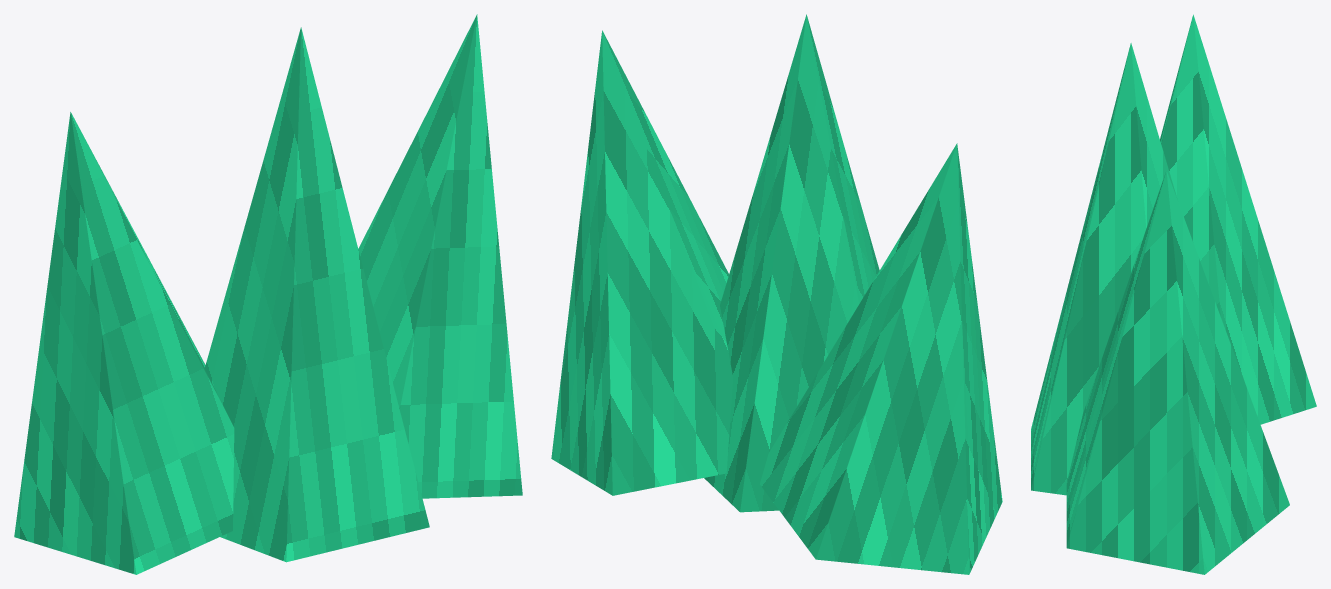
Rendered from crystal_10.glb.
The picture shows the model from 3 angles, left to right: view 1: azimuth 30°, elevation 25°; view 2: azimuth 150°, elevation 25°; view 3: azimuth 270°, elevation 25°; orthographic projection. The views are drawn at different scales.
Visible parts, largest first — view 1: Jade.001, Jade, Jade.002; view 2: Jade, Jade.002, Jade.001; view 3: Jade.002, Jade, Jade.001.
Part boxes in pixels (x1,y1,x2,y2): Jade.001: (204, 27, 429, 562); Jade: (14, 112, 234, 574); Jade.002: (358, 14, 522, 498); Jade: (760, 143, 1002, 574); Jade.002: (551, 30, 733, 495); Jade.001: (704, 14, 879, 512); Jade.002: (1066, 170, 1289, 574); Jade: (1160, 14, 1316, 424); Jade.001: (1031, 43, 1177, 495).
Size of the model in its own units: 0.8251 by 0.8544 by 0.5088.
Materials: 1 (1 with a texture image).
